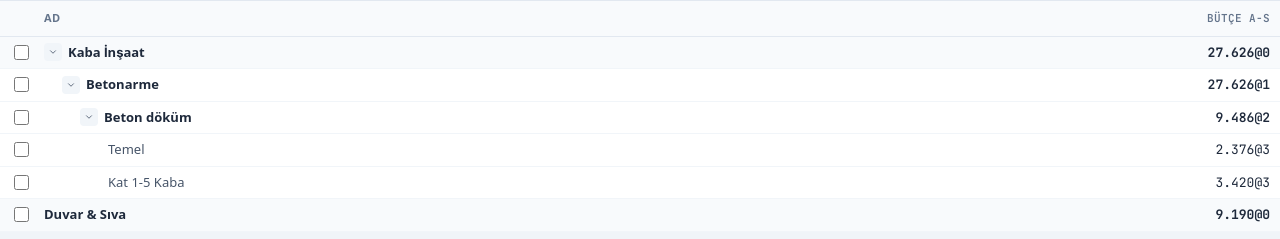
TreeTable — 3 durumlu seçim › üst satır kutusu tıklanınca bütün yapraklar seçilir, sonra kaldırılır
The width and height of the screenshot is (1280, 239).
Click the checkbox named "Kaba İnşaat seç". click: (22, 52)
box: [14,45,29,60]
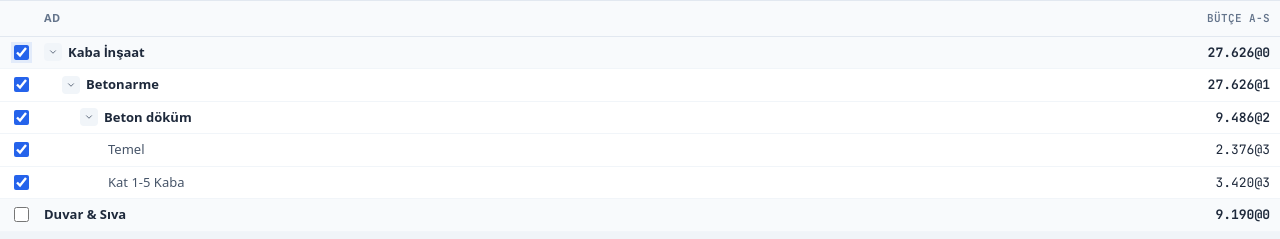
Check: the checkbox named "Kaba İnşaat seç" is checked
Check: the checkbox named "Temel seç" is checked, box [14,142,29,157]
Check: the checkbox named "Kat 1-5 Kaba seç" is checked, box [14,175,29,190]
Click the checkbox named "Kaba İnşaat seç". click: (22, 52)
box: [14,45,29,60]
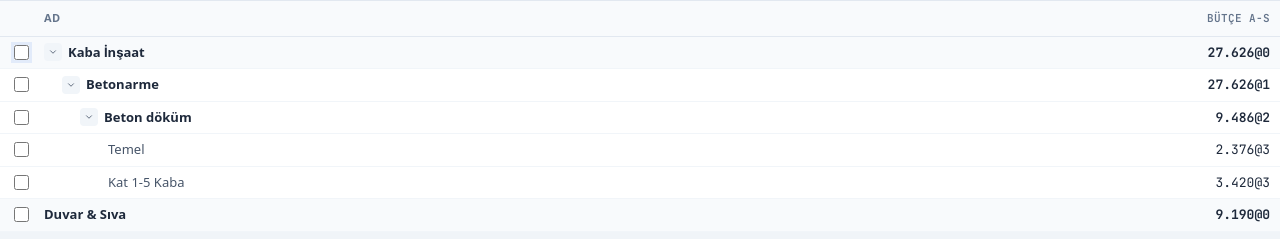
Check: the checkbox named "Temel seç" is not checked, box [14,142,29,157]
Check: the checkbox named "Kat 1-5 Kaba seç" is not checked, box [14,175,29,190]
